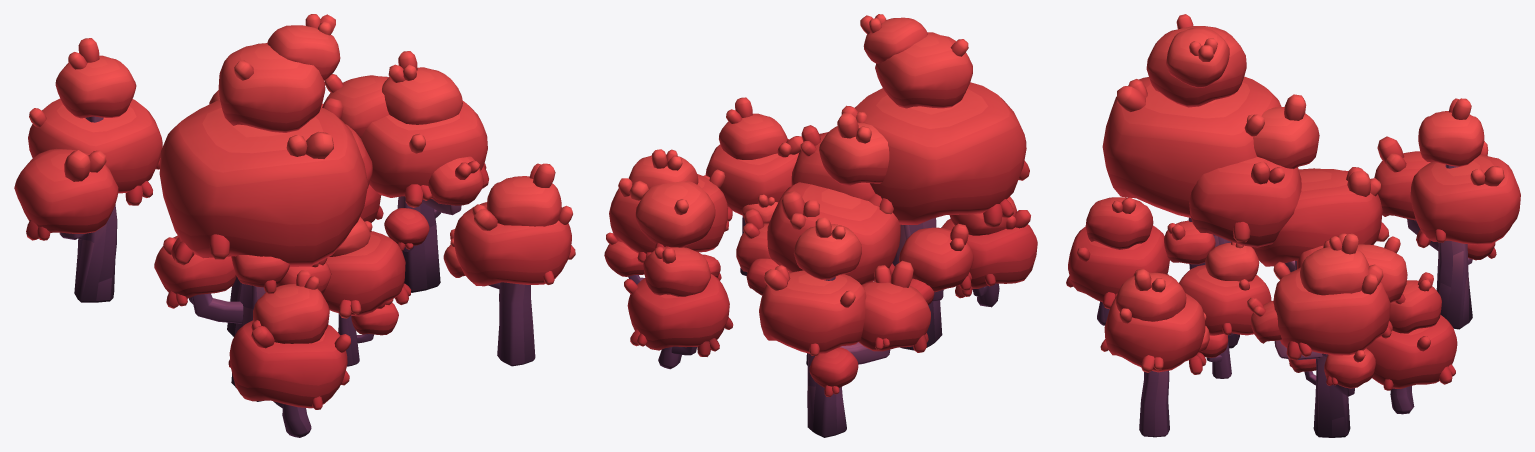
File: grassland_tree_group_col3.fbx
The picture shows the model from 3 angles, left to right: view 1: azimuth 30°, elevation 25°; view 2: azimuth 150°, elevation 25°; view 3: azimuth 270°, elevation 25°; orthographic projection. The views are drawn at different scales.
Parts seen in each view (by area): view 1: grassland_tree_group_col3; view 2: grassland_tree_group_col3; view 3: grassland_tree_group_col3.
Boxes of the visible parts, x1,y1,x2,y2 form: grassland_tree_group_col3: (14, 14, 575, 437); grassland_tree_group_col3: (604, 14, 1037, 437); grassland_tree_group_col3: (1066, 14, 1520, 437).
Bounding box in the file's own units: 1728 × 1486 × 1906.
1 material, 1 textured.
